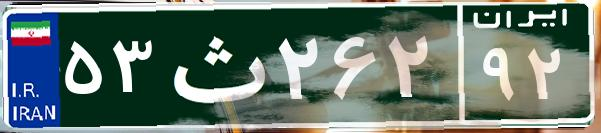2: (385, 28, 445, 110), (273, 28, 330, 110), (525, 38, 570, 115)
3: (110, 28, 158, 105)
5: (57, 26, 110, 107)
6: (330, 28, 385, 110)
9: (475, 38, 525, 113)
ث: (158, 15, 273, 115)
